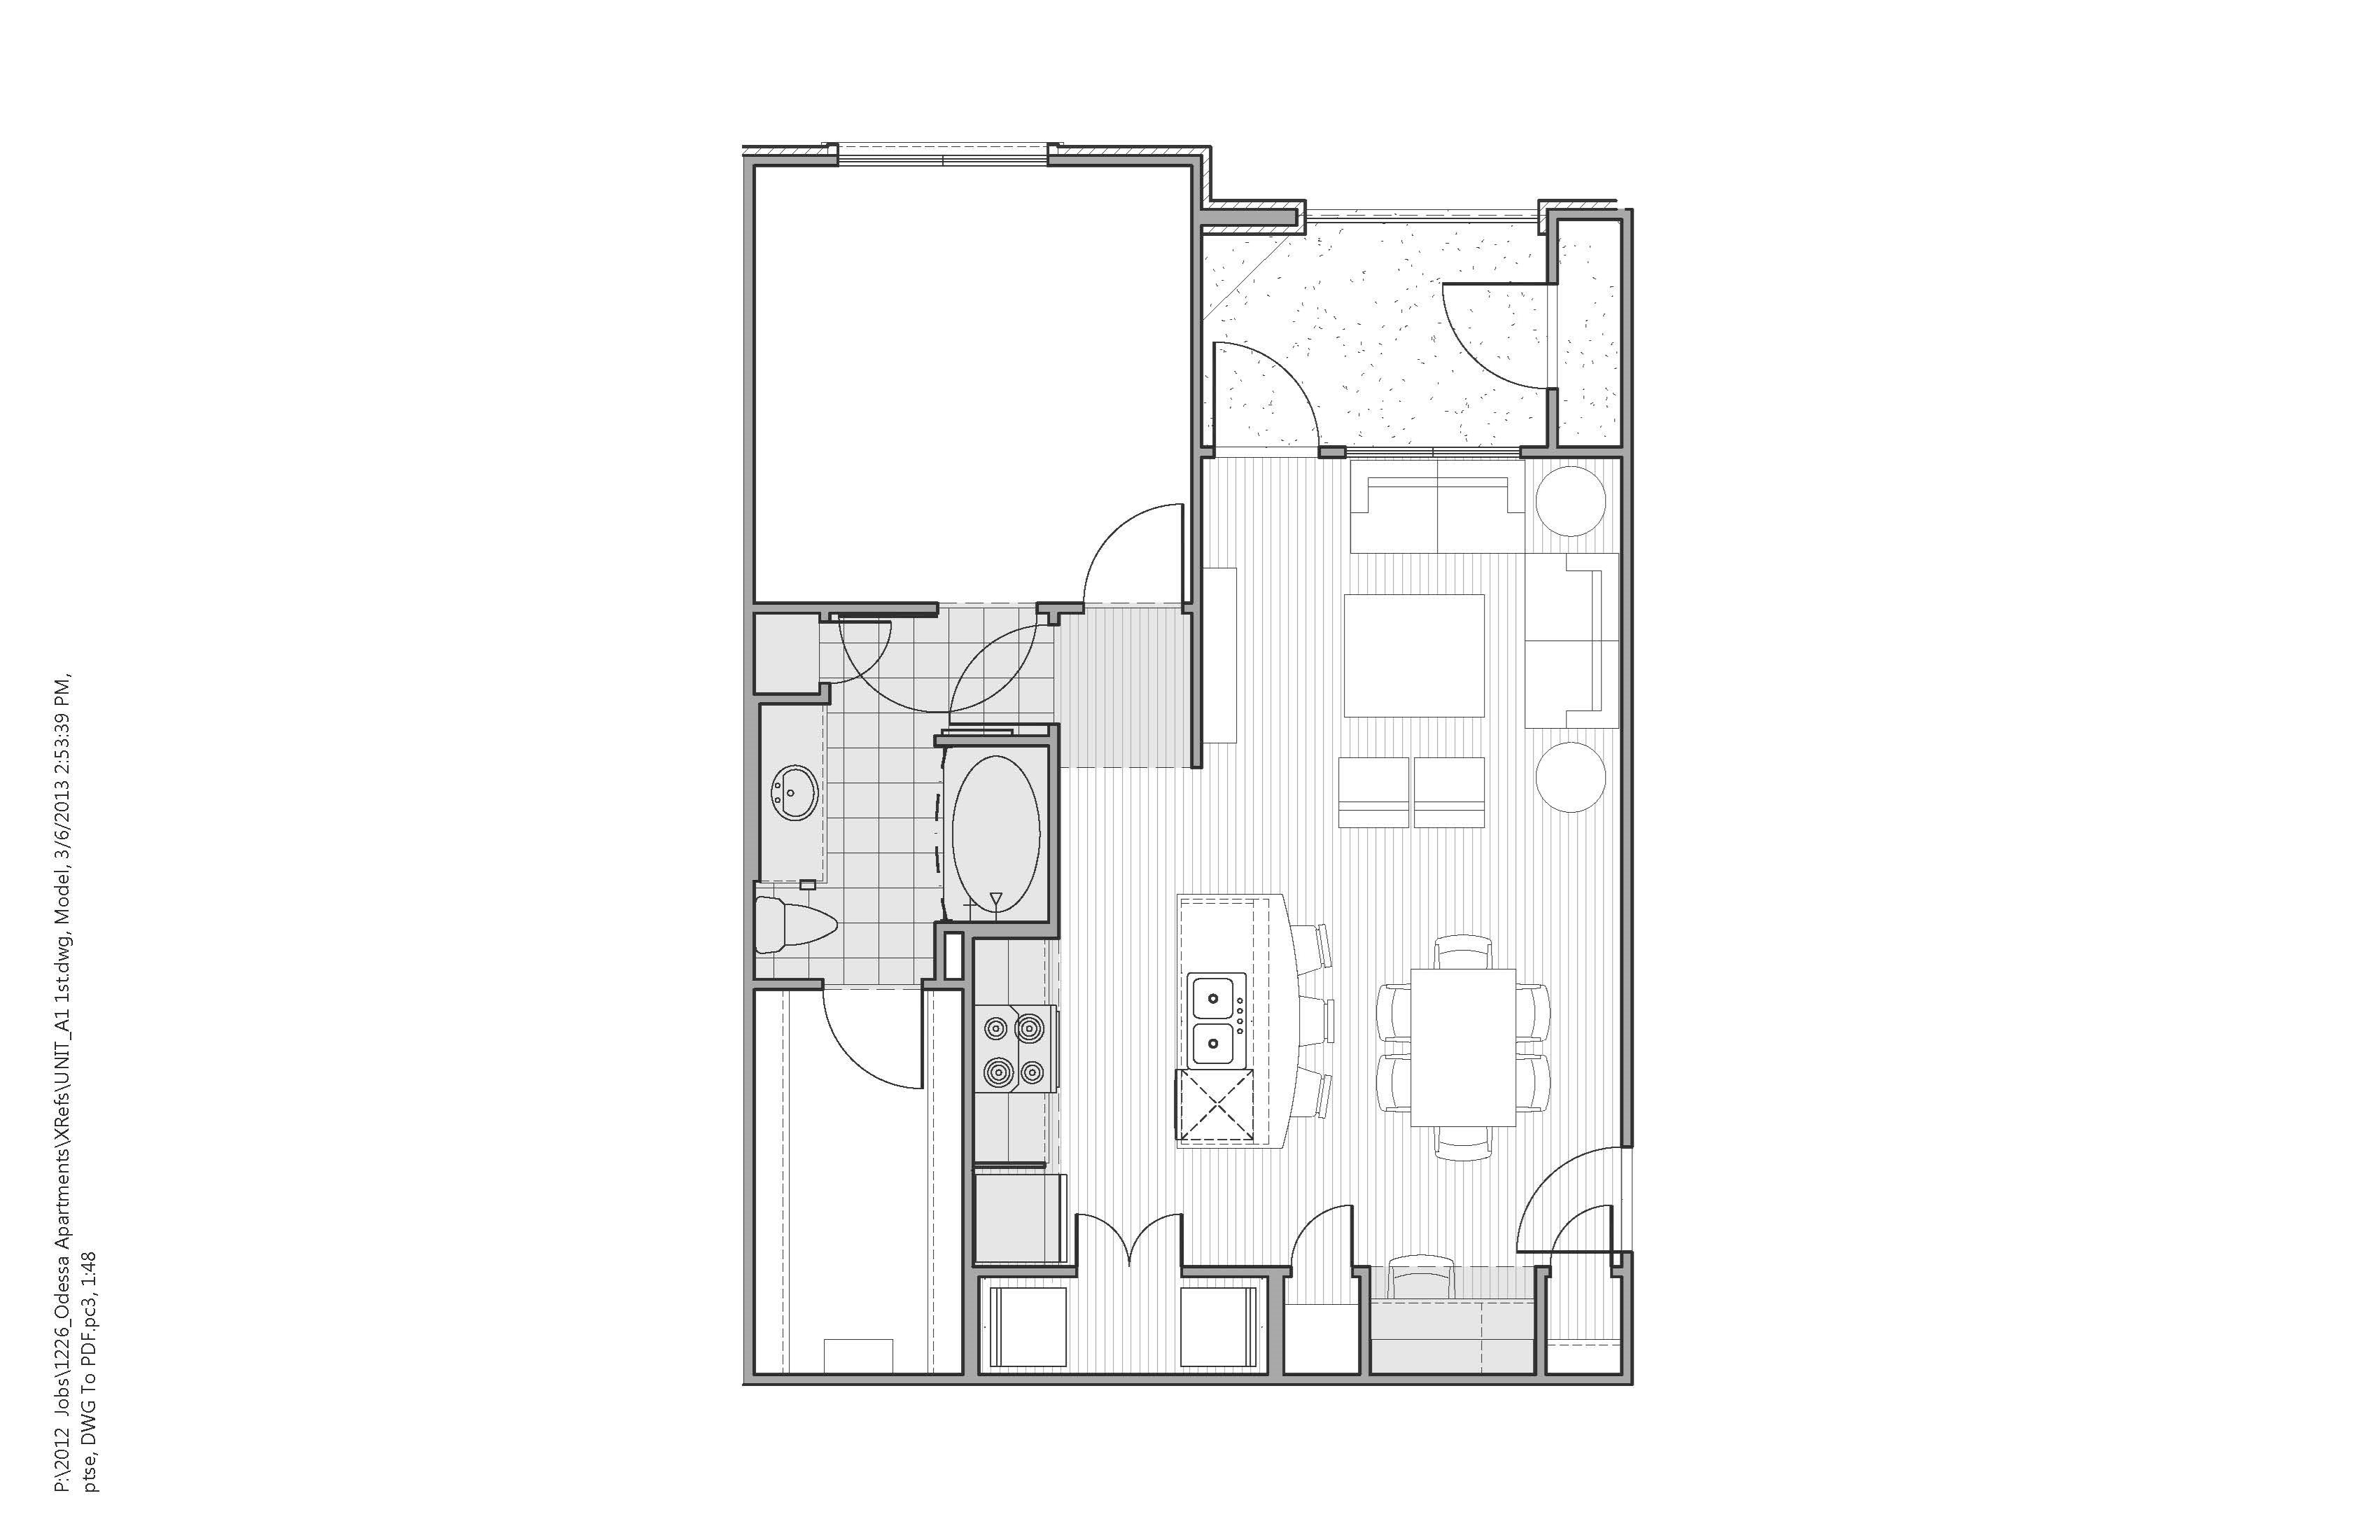door: (1440, 276, 1544, 406), (1499, 1143, 1612, 1256), (812, 999, 932, 1094), (1207, 336, 1324, 430), (1070, 498, 1187, 591), (1072, 1200, 1187, 1269), (1285, 1193, 1358, 1261), (829, 617, 902, 680), (1556, 1198, 1624, 1249)
